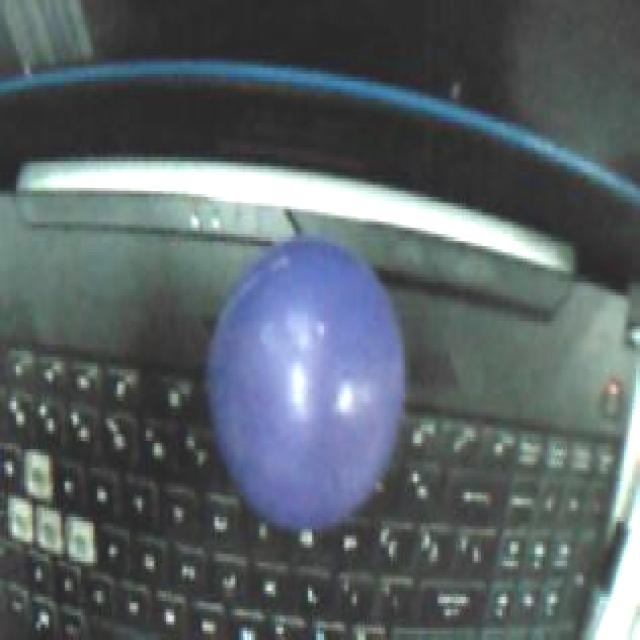BallPurple: (206, 236, 406, 533)
